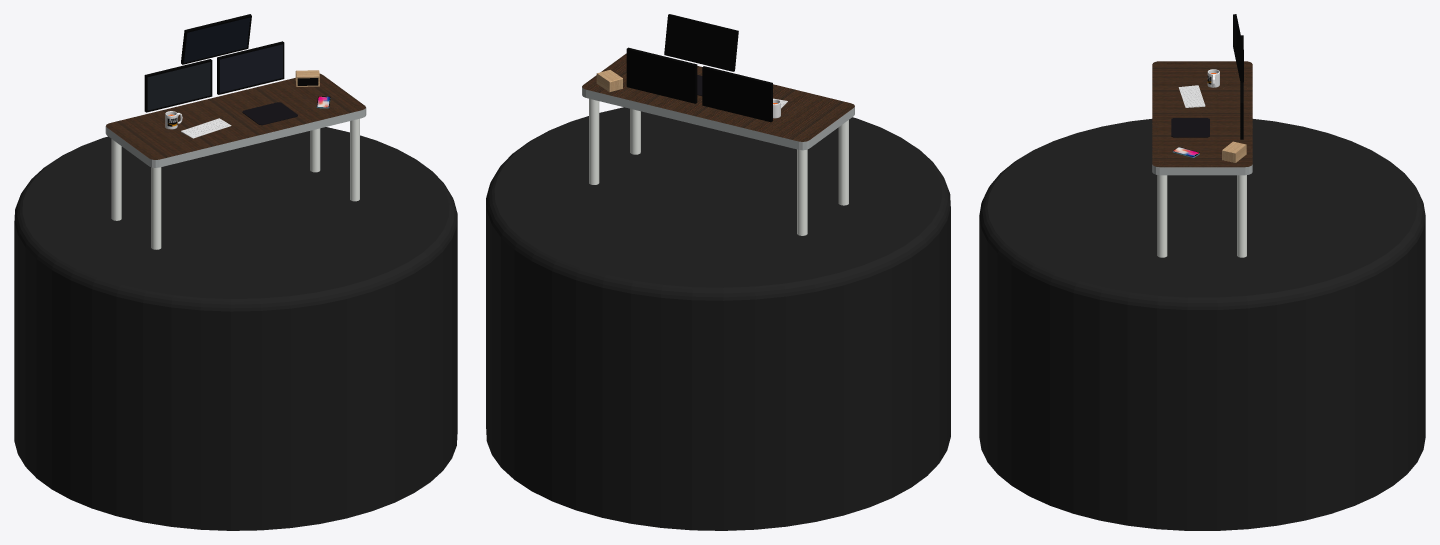
3 renders of one model, left to right at view 1: azimuth 30°, elevation 25°; view 2: azimuth 150°, elevation 25°; view 3: azimuth 270°, elevation 25°, orthographic. The views are drawn at different scales.
Parts seen in each view (by area): view 1: Cylinder, plateau, ECRAN1 - GAUCHE, ECRAN2 - DROITE, ECRAN3 - TOP, pied4, pied1, pied2, tapis; view 2: Cylinder, plateau, ECRAN3 - TOP, ECRAN2 - DROITE, ECRAN1 - GAUCHE, pied1, pied3, pied4; view 3: Cylinder, plateau, pied2, pied3, tapis.
Boxes of the visible parts, x1,y1,x2,y2 form: Cylinder: (14,127,457,530); plateau: (105,73,366,167); ECRAN1 - GAUCHE: (144,59,212,112); ECRAN2 - DROITE: (217,41,284,94); ECRAN3 - TOP: (181,14,251,64); pied4: (151,167,161,249); pied1: (111,139,121,220); pied2: (350,118,359,201); tapis: (242,102,297,125); Cylinder: (486,107,950,530); plateau: (582,53,854,150); ECRAN3 - TOP: (664,14,738,71); ECRAN2 - DROITE: (626,47,697,103); ECRAN1 - GAUCHE: (702,66,772,122); pied1: (797,149,807,235); pied3: (589,98,599,184); pied4: (838,120,848,205); Cylinder: (979,119,1425,530); plateau: (1152,61,1252,175); pied2: (1157,175,1167,257); pied3: (1237,175,1246,257); tapis: (1171,118,1209,137).
Size of the model in its own units: 17.75 by 17.85 by 17.79.
Materials: 25 (5 with a texture image).
